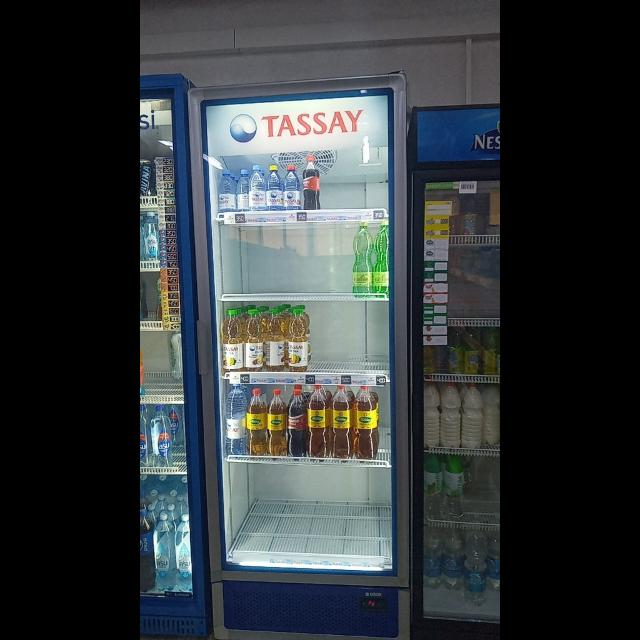Cooling-Display: (187, 72, 409, 640)
